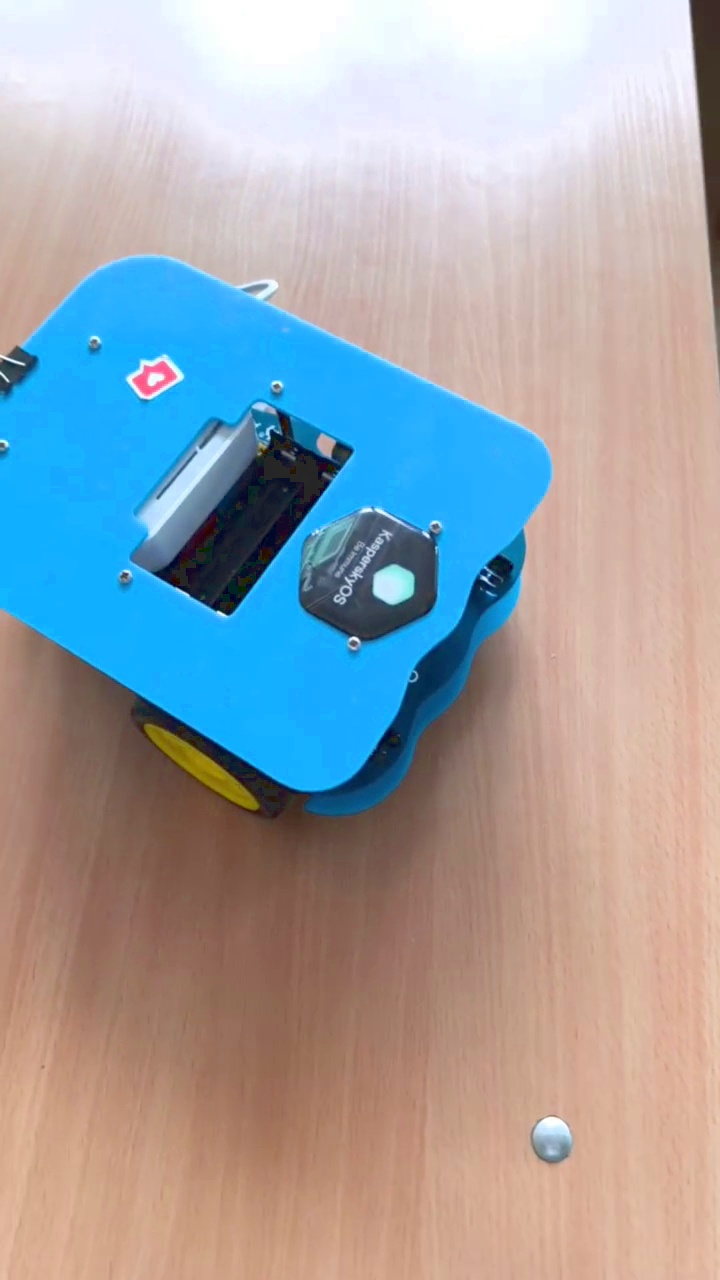robot: (1, 252, 556, 820)
